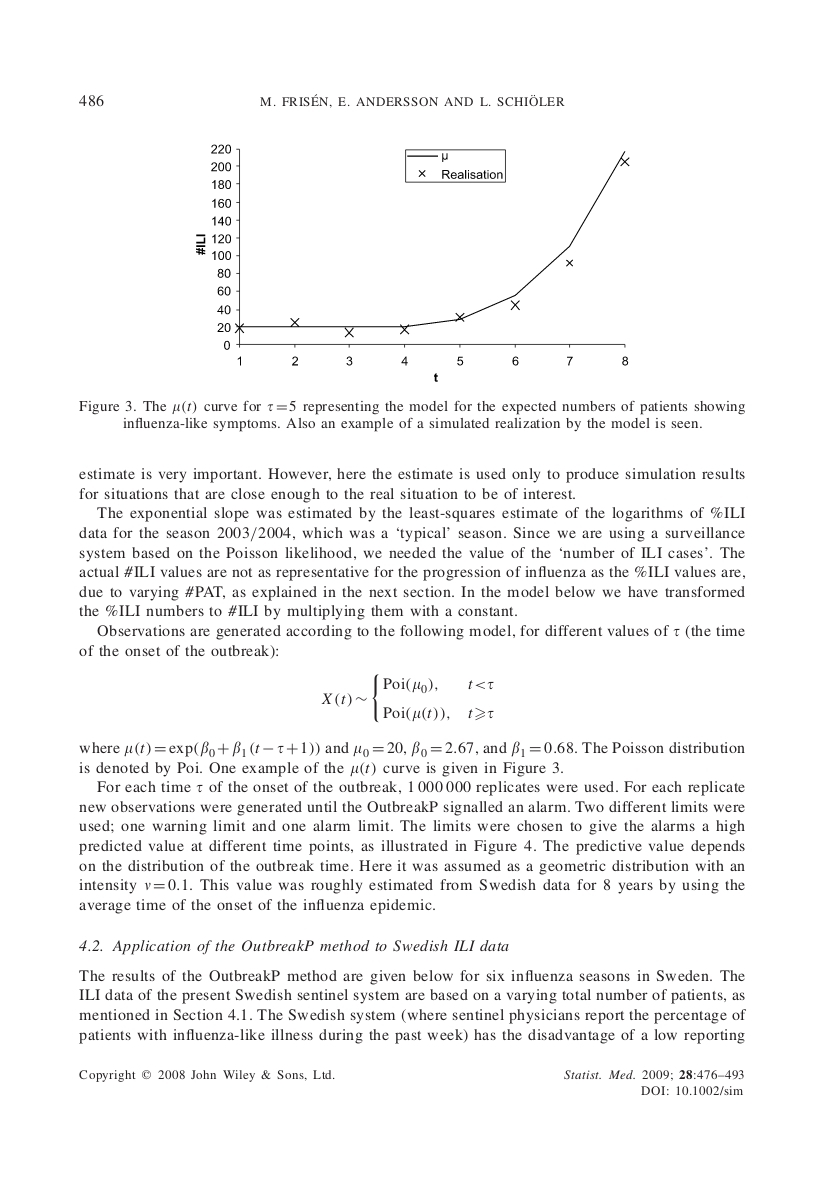figure: (196, 144, 629, 381)
formula: (321, 673, 493, 723)
